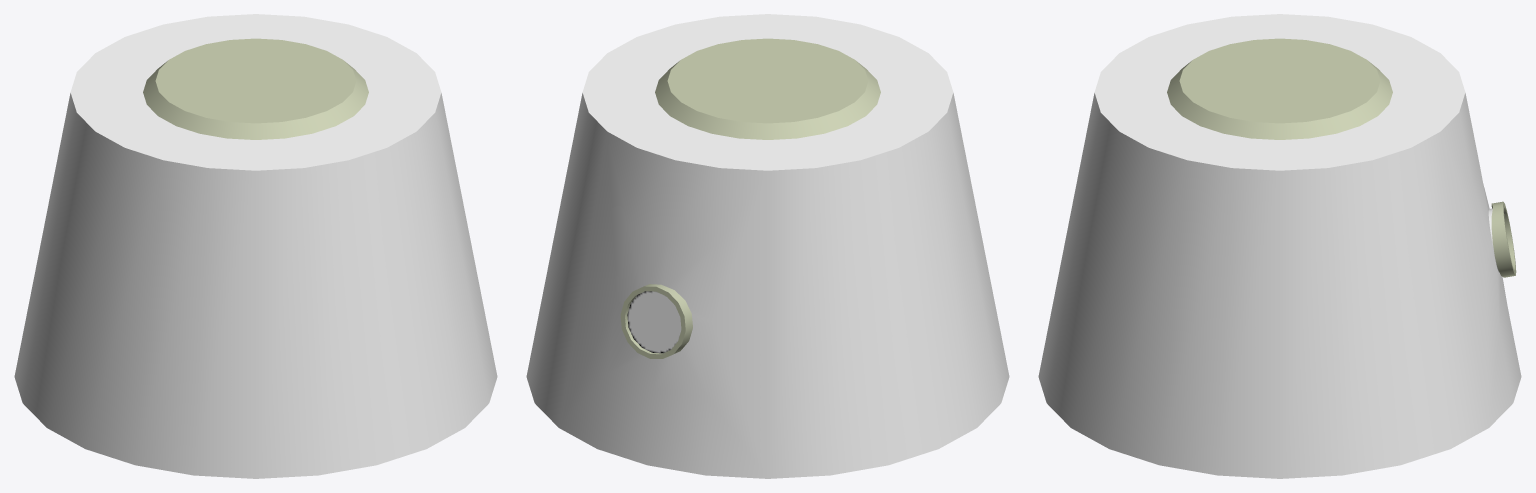
The model's file is aquila_crew_s1_3_1_interior.obj.
3 renders of one model, left to right at view 1: azimuth 30°, elevation 25°; view 2: azimuth 150°, elevation 25°; view 3: azimuth 270°, elevation 25°, orthographic.
Parts seen in each view (by area): view 1: aquila_crew_s1_3_1_interior, aquila_crew_s1_3_1_interior_mask; view 2: aquila_crew_s1_3_1_interior, aquila_crew_s1_3_1_interior_mask, aquila_crew_s1_3_1_interior_window; view 3: aquila_crew_s1_3_1_interior, aquila_crew_s1_3_1_interior_mask.
Boxes of the visible parts, left/top/right/bottom form: aquila_crew_s1_3_1_interior: left=14, top=14, right=497, bottom=478; aquila_crew_s1_3_1_interior_mask: left=143, top=38, right=368, bottom=139; aquila_crew_s1_3_1_interior: left=526, top=14, right=1009, bottom=478; aquila_crew_s1_3_1_interior_mask: left=620, top=38, right=880, bottom=358; aquila_crew_s1_3_1_interior_window: left=627, top=291, right=681, bottom=353; aquila_crew_s1_3_1_interior: left=1038, top=14, right=1521, bottom=478; aquila_crew_s1_3_1_interior_mask: left=1167, top=38, right=1516, bottom=277.
Bounding box in the file's own units: 1.2 × 0.825 × 1.2.
